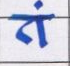anusvara: (35, 1, 43, 9)
